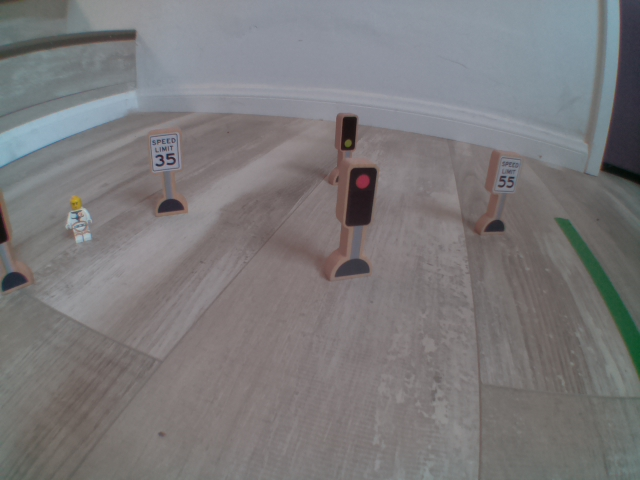Green Traffic Light: (335, 110, 359, 152)
Red Traffic Light: (341, 157, 386, 240)
Speed Limit 35: (143, 120, 190, 173)
Speed Limit 55: (490, 143, 528, 197)
person: (57, 188, 100, 246)
